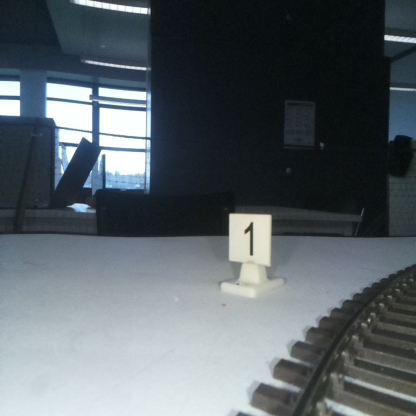white-stop-1: (229, 214, 271, 292)
